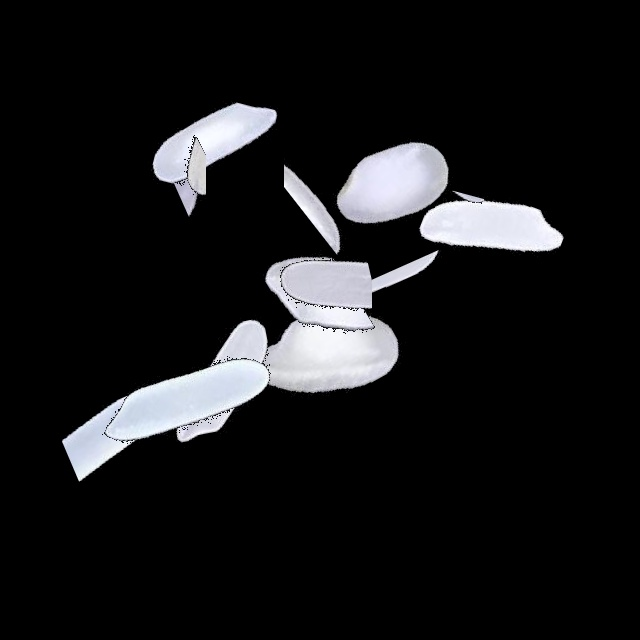Broken: (15, 347, 265, 503), (226, 168, 372, 418), (165, 249, 415, 383), (341, 206, 457, 456), (284, 43, 391, 293), (101, 43, 206, 293), (174, 48, 267, 298), (396, 108, 484, 358), (62, 106, 138, 356)
Full: (199, 230, 449, 480), (367, 101, 617, 351), (94, 254, 344, 504), (63, 275, 313, 525), (87, 20, 337, 270), (268, 58, 518, 308)
